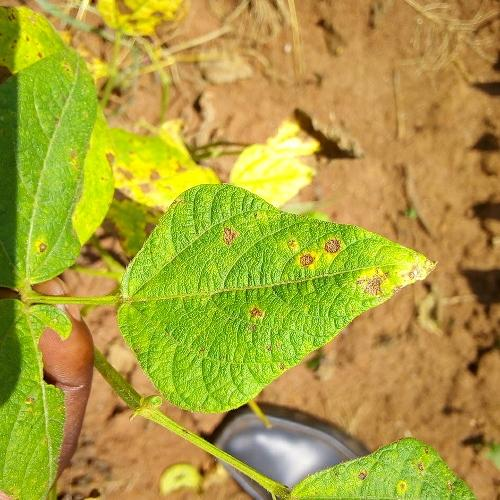hawar: (114, 192, 440, 398)
